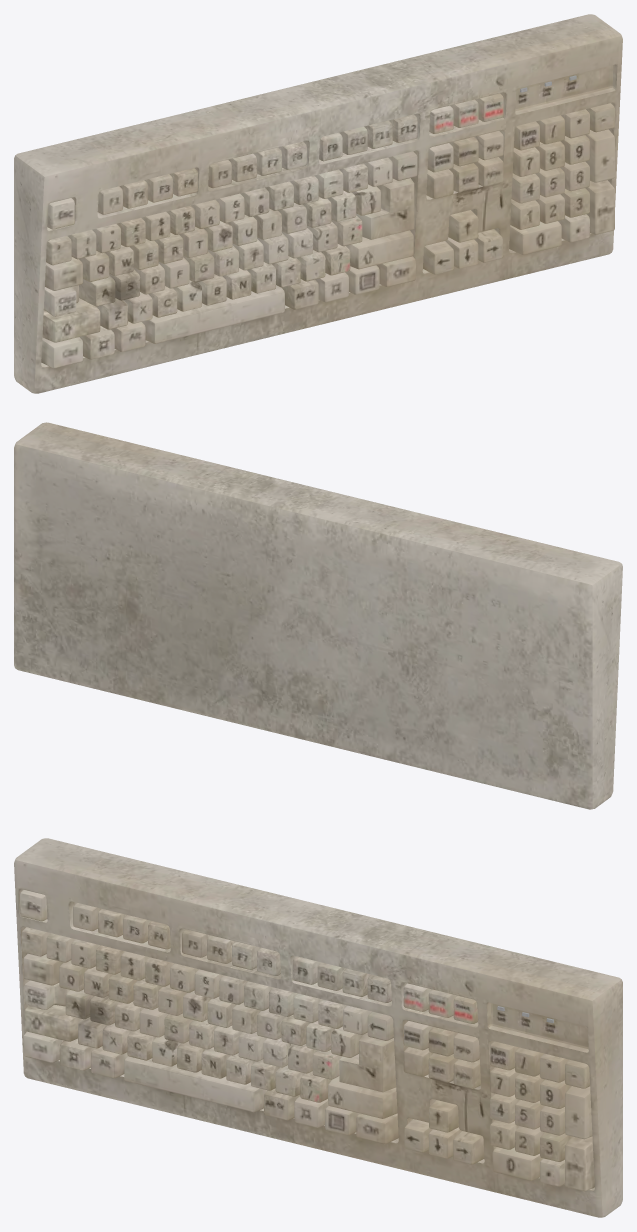
Rendered from low_poly_keyboard.glb.
3 renders of one model, top to bottom at view 1: azimuth 30°, elevation 25°; view 2: azimuth 150°, elevation 25°; view 3: azimuth 330°, elevation 25°, orthographic.
Visible parts, largest first — view 1: Cube.045_Material.001_0; view 2: Cube.045_Material.001_0; view 3: Cube.045_Material.001_0.
Boxes of the visible parts, x1,y1,x2,y2 form: Cube.045_Material.001_0: (14,14,622,393); Cube.045_Material.001_0: (14,422,622,809); Cube.045_Material.001_0: (14,838,622,1217).
Size of the model in its own units: 5.41 by 2.03 by 0.5261.
1 material, 1 textured.
